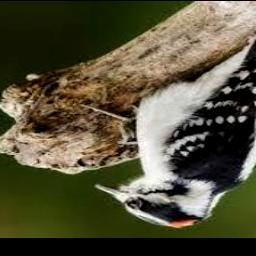Woodpecker: (79, 9, 256, 229)
